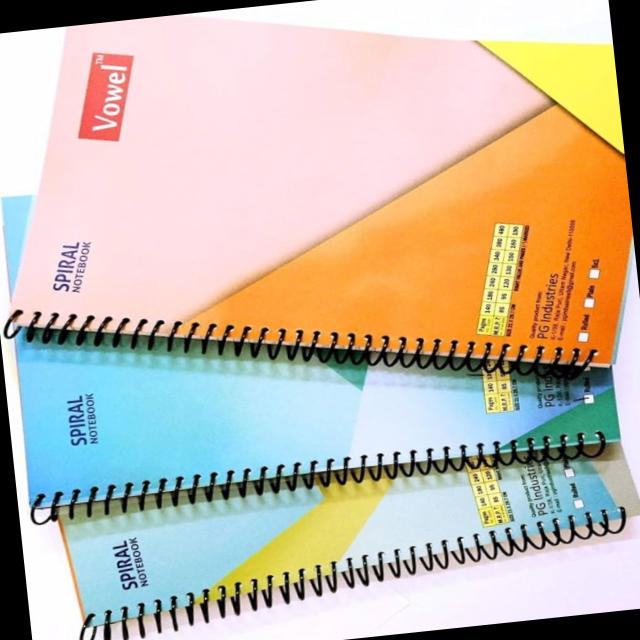notebook: (0, 4, 633, 640)
